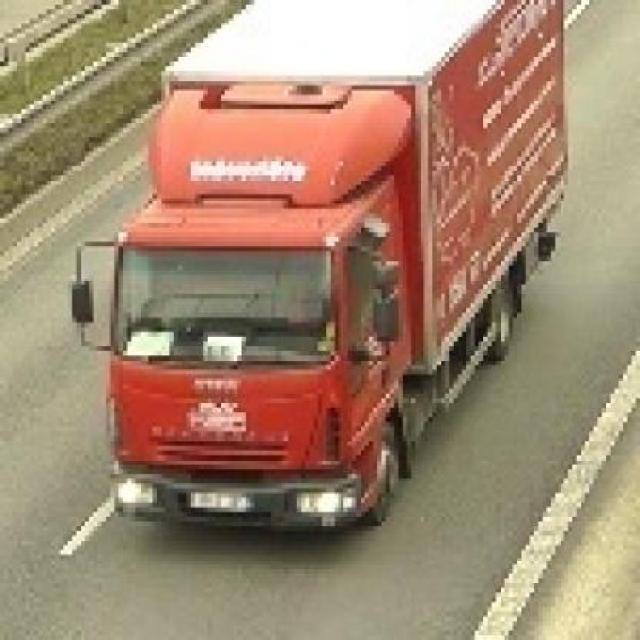truck: (68, 1, 565, 527)
